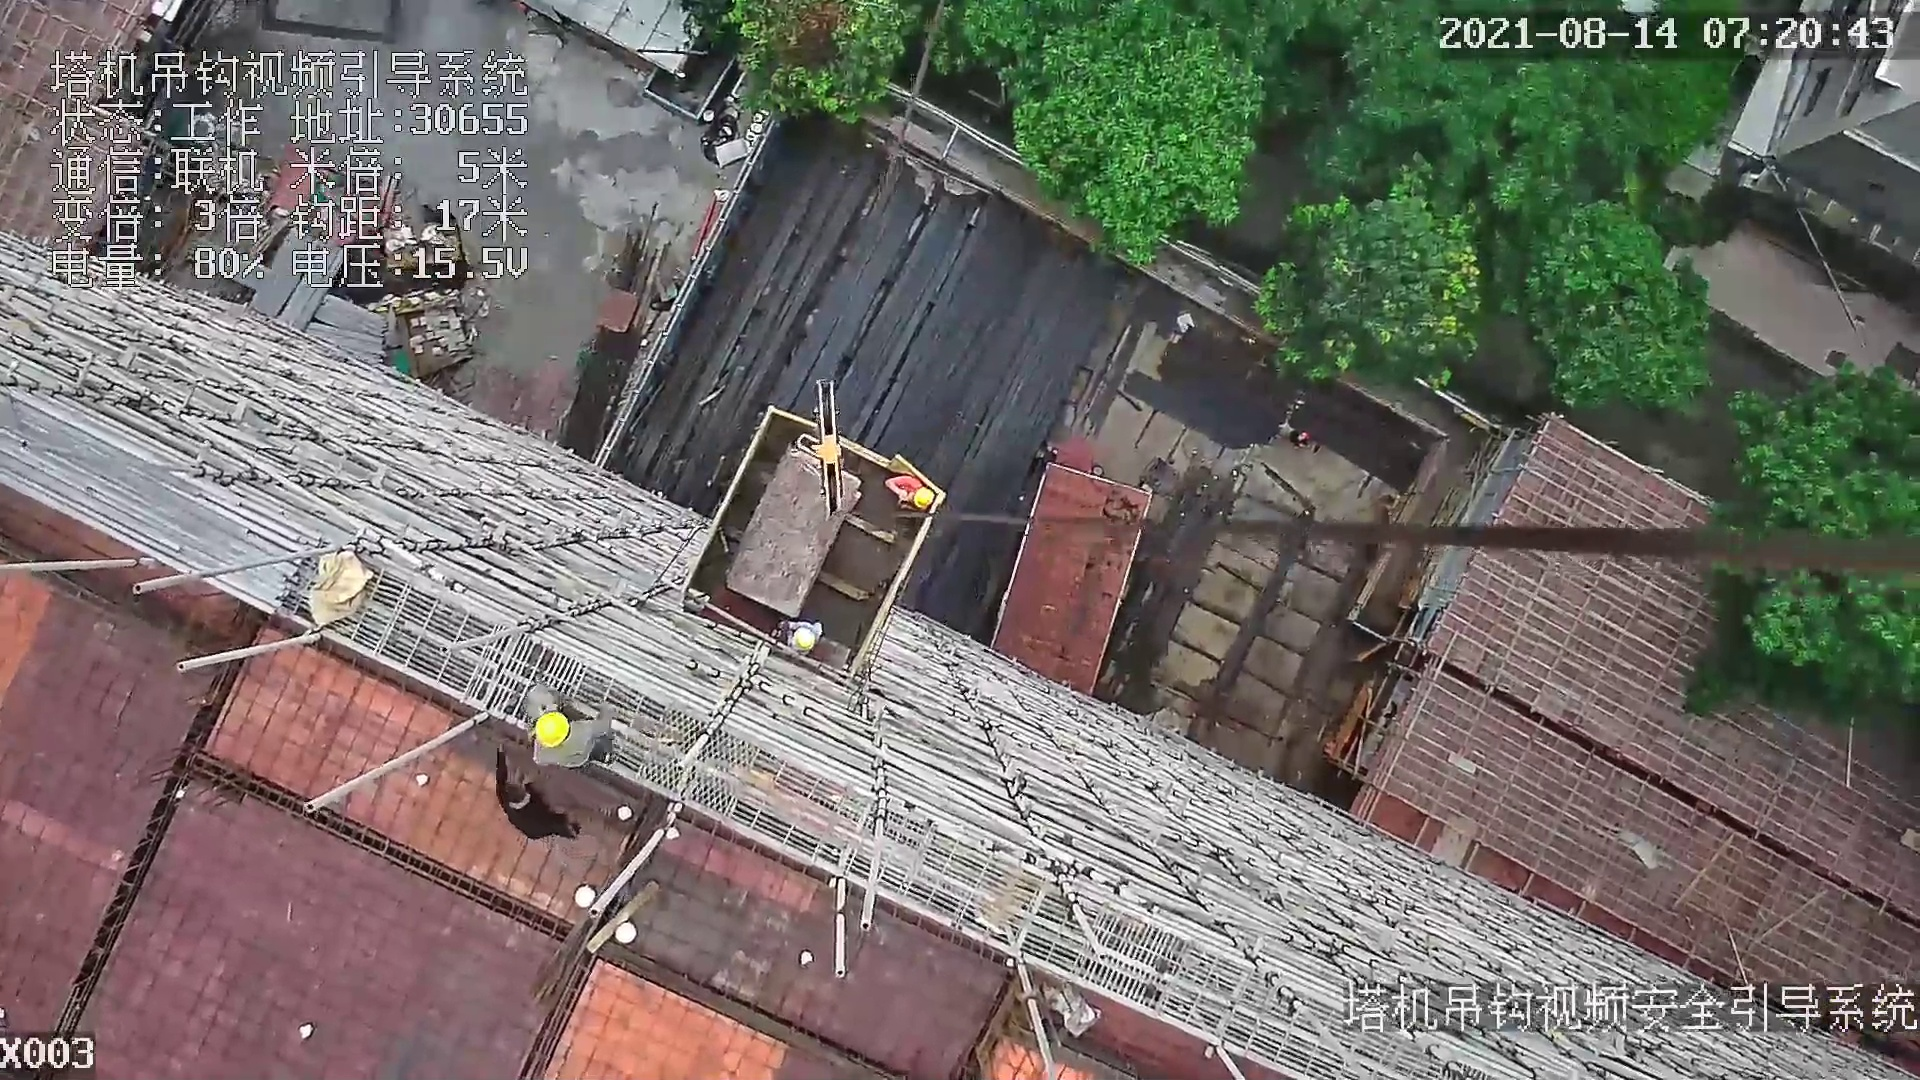helmet: (532, 709, 574, 749), (788, 626, 815, 654), (912, 485, 935, 508)
hook: (795, 376, 854, 522)
person: (494, 749, 587, 845), (524, 680, 617, 772), (770, 612, 819, 665), (886, 473, 935, 518)
